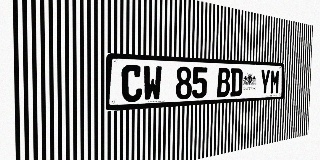5: (192, 67, 207, 99)
8: (176, 66, 192, 100)
B: (217, 68, 230, 97)
C: (121, 65, 142, 103)
D: (230, 68, 243, 97)
M: (270, 69, 280, 94)
W: (143, 65, 162, 101)
Y: (260, 69, 270, 95)
